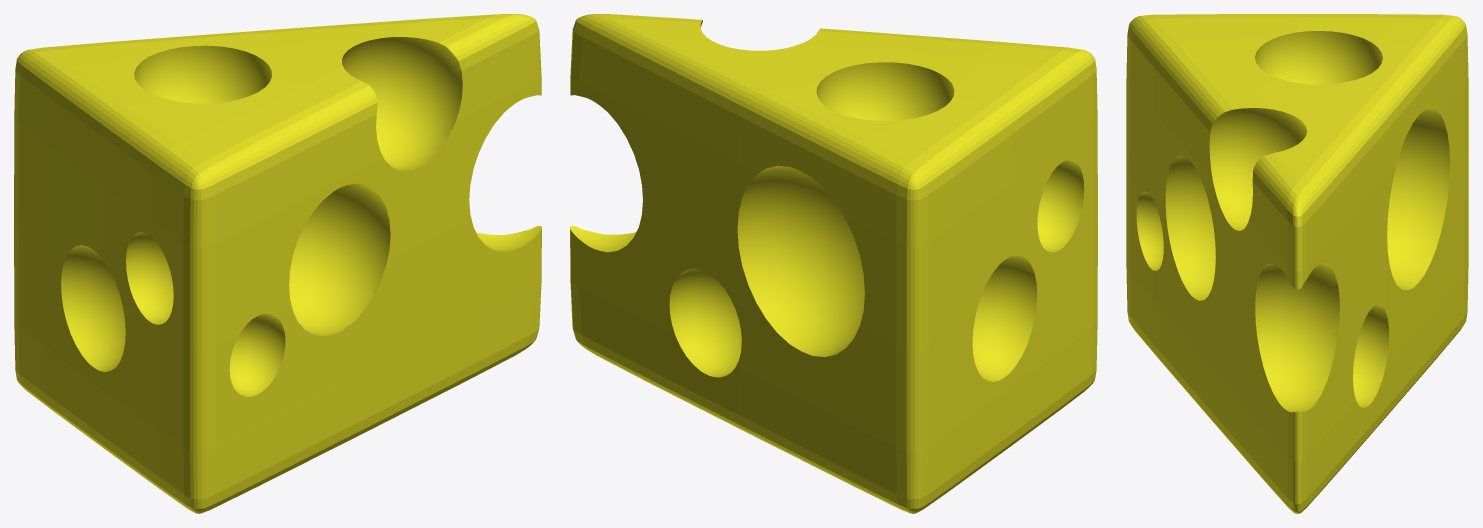
File: cheese.fbx
3 renders of one model, left to right at view 1: azimuth 30°, elevation 25°; view 2: azimuth 150°, elevation 25°; view 3: azimuth 270°, elevation 25°, orthographic. The views are drawn at different scales.
Visible parts, largest first — view 1: Cube; view 2: Cube; view 3: Cube.
Boxes of the visible parts, x1,y1,x2,y2 form: Cube: [14, 14, 541, 513]; Cube: [570, 14, 1097, 513]; Cube: [1126, 14, 1468, 513].
Size of the model in its own units: 54.64 by 41.29 by 39.63.
